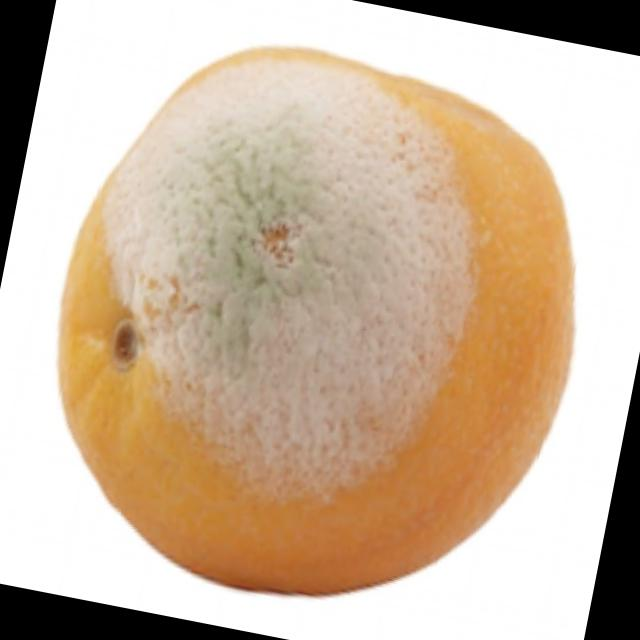rotten-orange: (15, 7, 617, 640)
